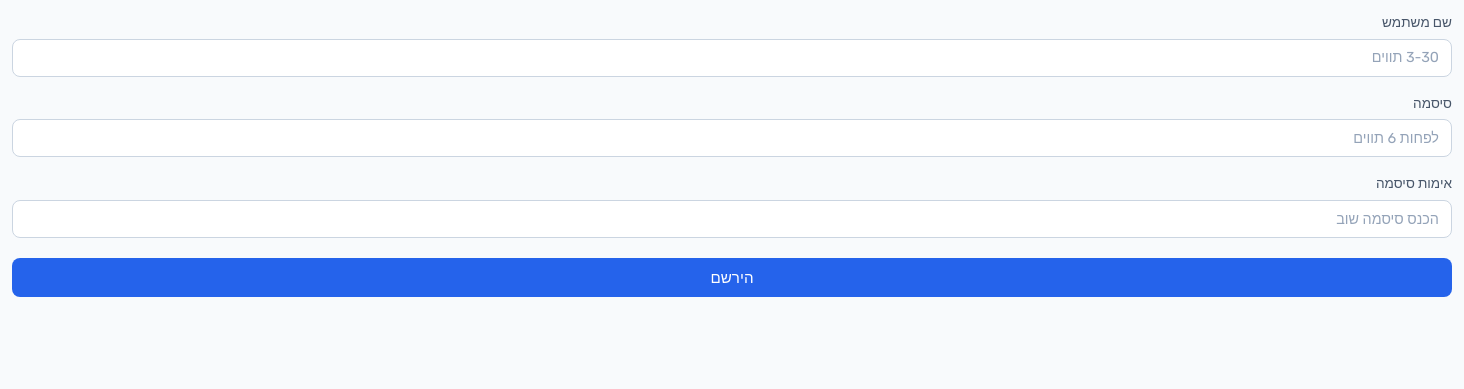
it: RegisterForm › prevents submission with empty fields
The width and height of the screenshot is (1464, 389).
Click the button "הירשם": point(732, 278) [12,258,1452,297]
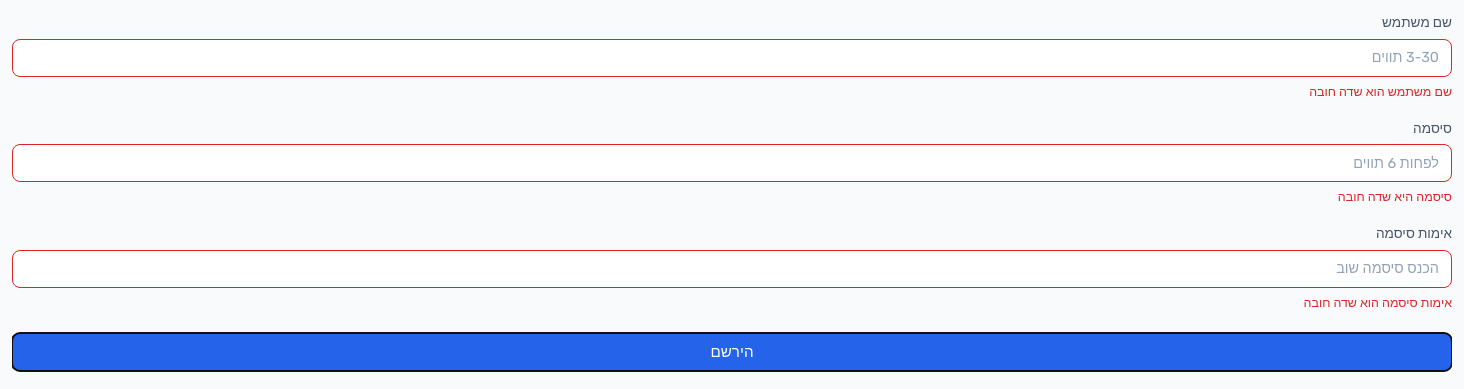
Now the text "שם משתמש הוא שדה חובה" is shown, box [1309,84,1452,98]
